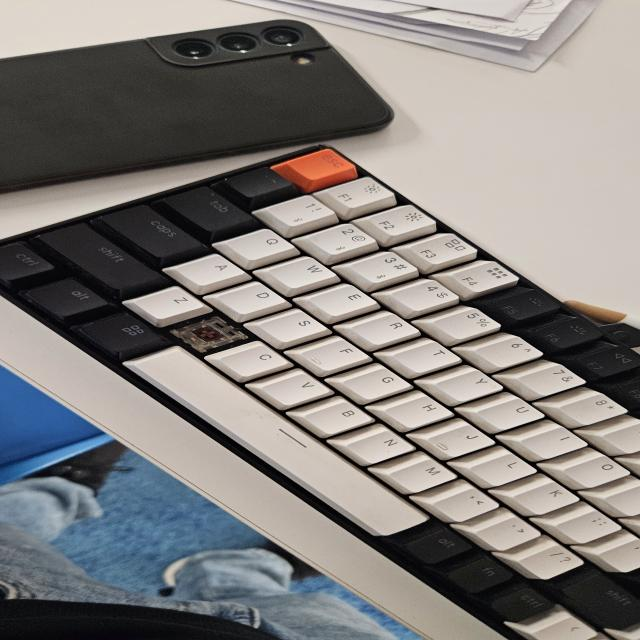C: (174, 320, 242, 347)
